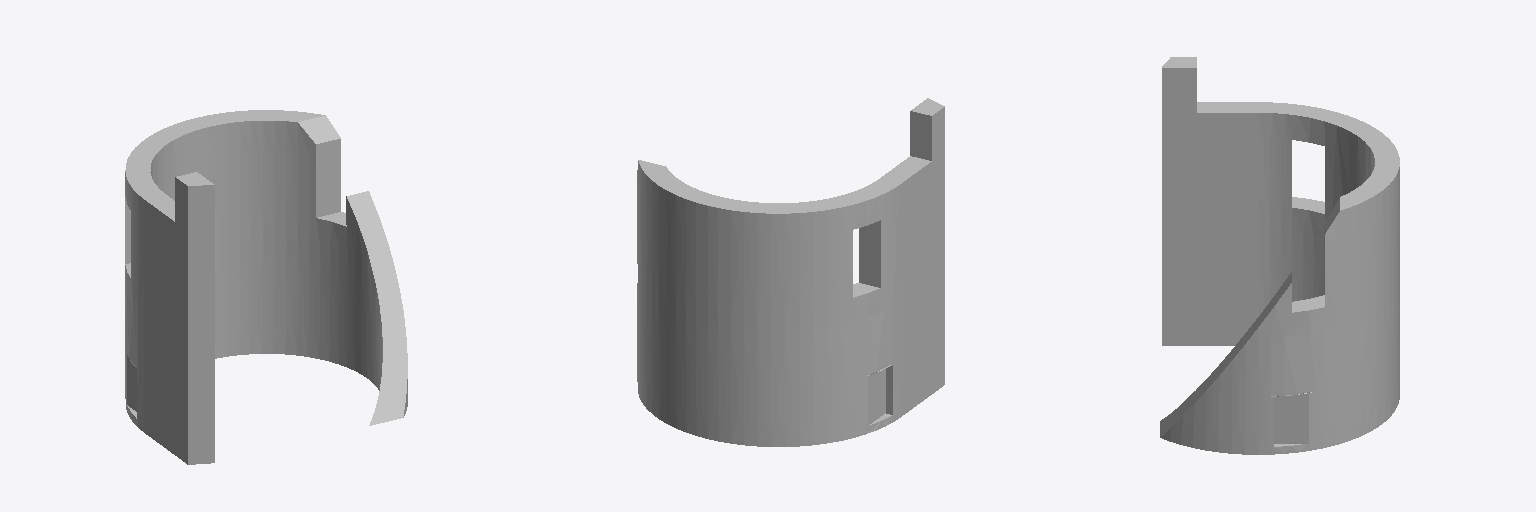
Rendered from barbot5.obj.
The picture shows the model from 3 angles: view 1: azimuth 30°, elevation 25°; view 2: azimuth 150°, elevation 25°; view 3: azimuth 270°, elevation 25°; orthographic projection.
Size of the model in its own units: 17 by 18.5 by 14.45.